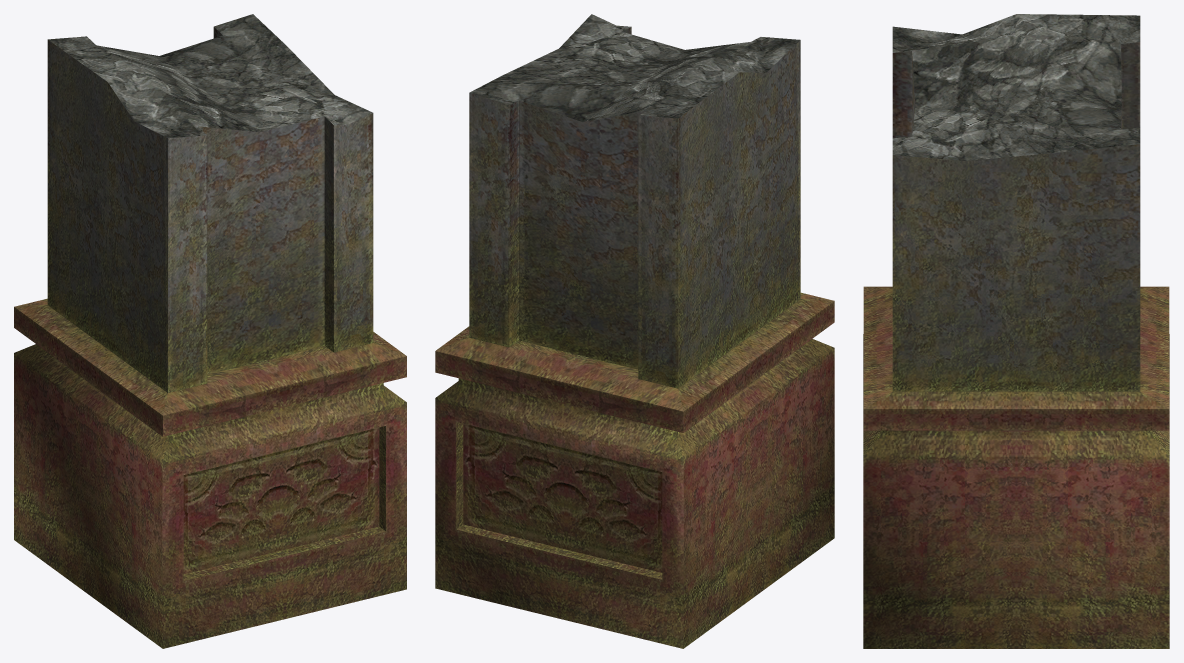
File: fortressa_pillar_02.glb
3 views of the same model, side by side, from view 1: azimuth 30°, elevation 25°; view 2: azimuth 150°, elevation 25°; view 3: azimuth 270°, elevation 25° (orthographic). The views are drawn at different scales.
Parts seen in each view (by area): view 1: fortressA_pillar_02; view 2: fortressA_pillar_02; view 3: fortressA_pillar_02.
Part boxes in pixels (x1=…): fortressA_pillar_02: x1=14, y1=14, x2=406, y2=648; fortressA_pillar_02: x1=435, y1=14, x2=834, y2=648; fortressA_pillar_02: x1=863, y1=14, x2=1169, y2=648.
Bounding box in the file's own units: 3.94 × 7.83 × 4.16.
2 materials, 2 textured.
